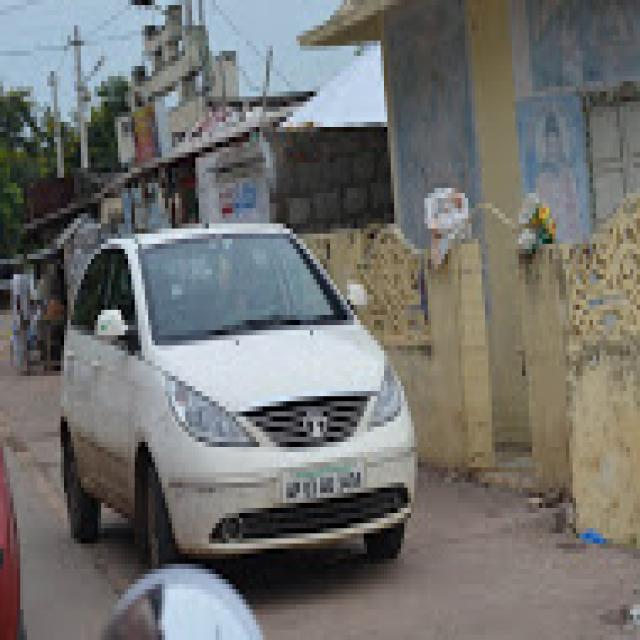car_back: (62, 220, 436, 574)
